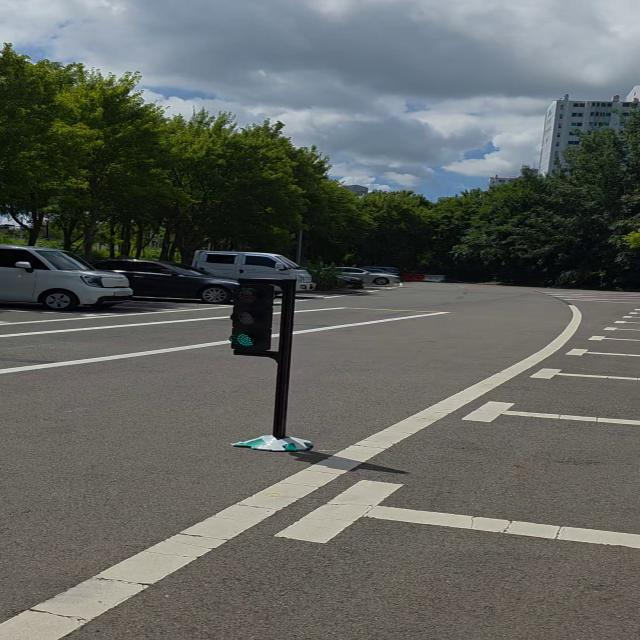green: (230, 278, 290, 357)
